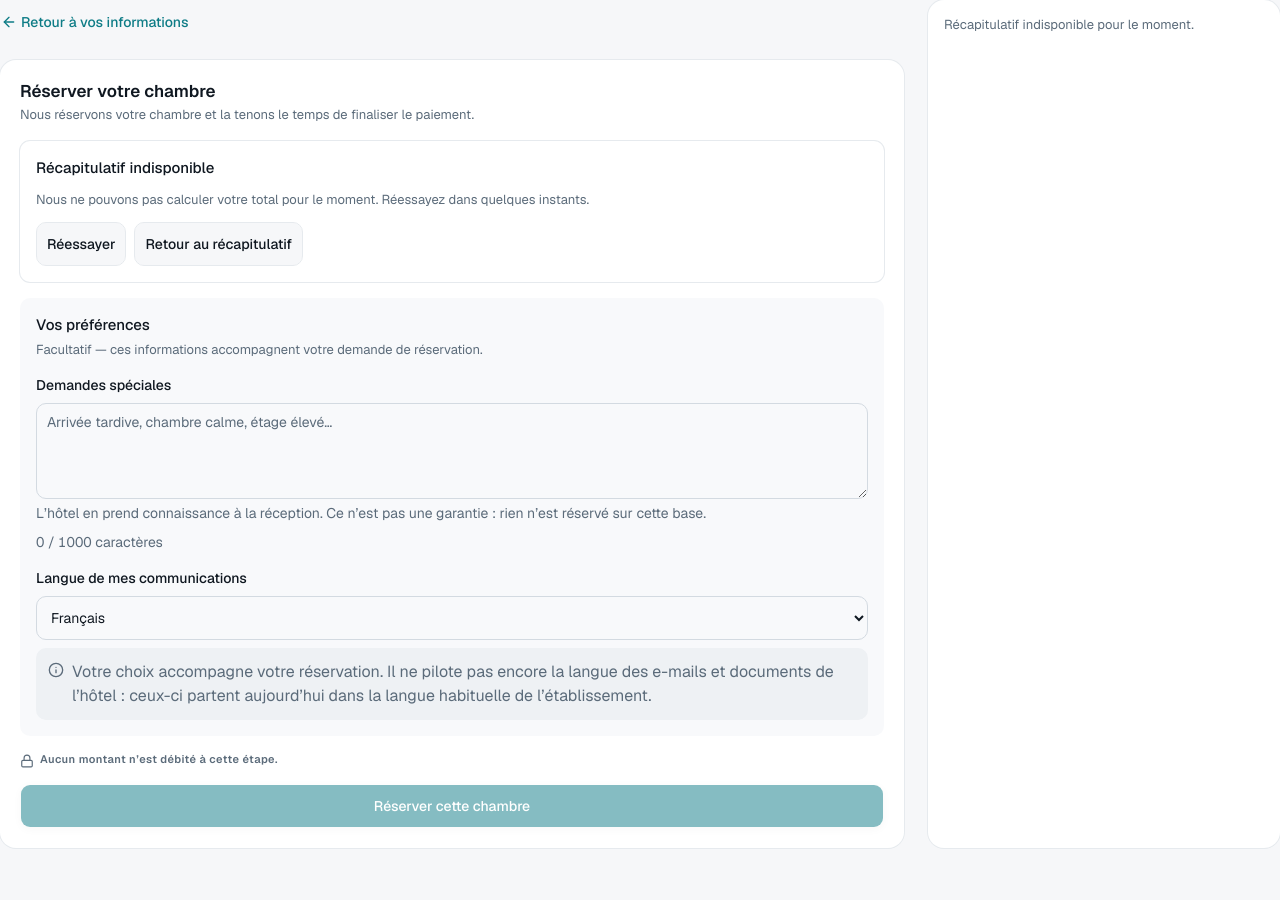
Scenario: BookingPayment — devis en erreur (issue, jamais de cul-de-sac muet) › relance réellement le devis au clic sur « Réessayer »
Click the button with test id "payment-quote-retry" at (81, 244), box [36,222,126,266]
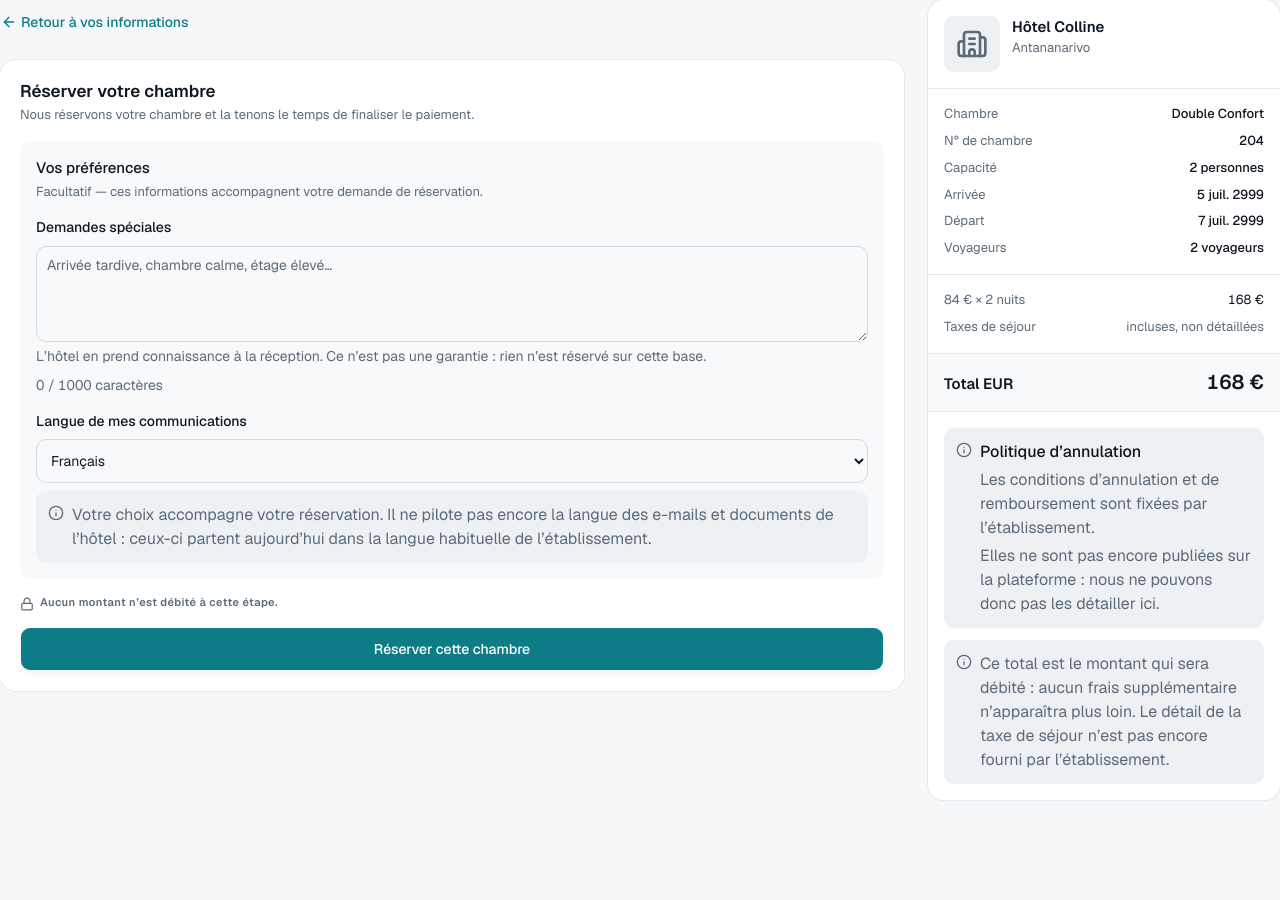
Check: the message with test id "payment-quote-error" is gone
Check: the button with test id "payment-create-cta" is enabled, box [20,627,884,671]
